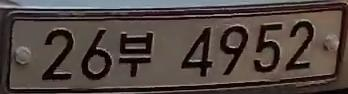2: (38, 25, 78, 84), (284, 16, 316, 74)
4: (177, 25, 217, 80)
5: (250, 21, 283, 74)
6: (79, 26, 116, 83)
9: (215, 23, 251, 78)
부: (113, 27, 158, 81)
